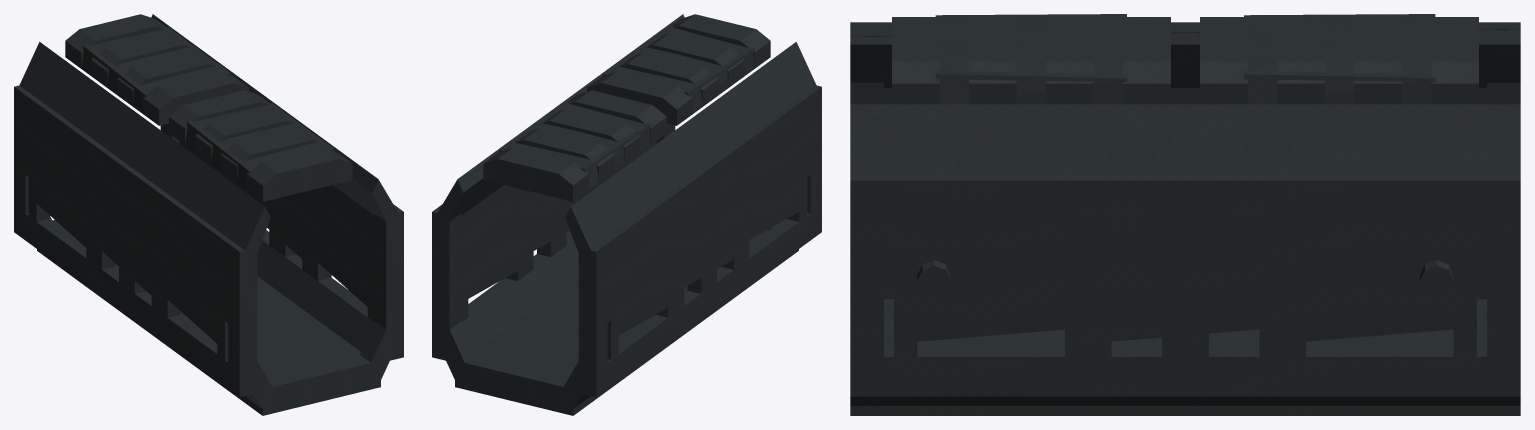
File: mpx_guard.glb
The picture shows the model from 3 angles, left to right: view 1: azimuth 30°, elevation 25°; view 2: azimuth 150°, elevation 25°; view 3: azimuth 270°, elevation 25°; orthographic projection. The views are drawn at different scales.
Visible parts, largest first — view 1: handguard__mpx_guard_LOD0_RAID_Secondary_Original_steel, handguard__mpx_guard_LOD1_RAID_Secondary_Original_steel; view 2: handguard__mpx_guard_LOD0_RAID_Secondary_Original_steel, handguard__mpx_guard_LOD1_RAID_Secondary_Original_steel; view 3: handguard__mpx_guard_LOD0_RAID_Secondary_Original_steel, handguard__mpx_guard_LOD1_RAID_Secondary_Original_steel.
Boxes of the visible parts, x1=… form: handguard__mpx_guard_LOD0_RAID_Secondary_Original_steel: x1=14, y1=14, x2=403, y2=415; handguard__mpx_guard_LOD1_RAID_Secondary_Original_steel: x1=14, y1=27, x2=403, y2=414; handguard__mpx_guard_LOD0_RAID_Secondary_Original_steel: x1=432, y1=14, x2=821, y2=415; handguard__mpx_guard_LOD1_RAID_Secondary_Original_steel: x1=432, y1=25, x2=820, y2=414; handguard__mpx_guard_LOD0_RAID_Secondary_Original_steel: x1=850, y1=17, x2=1520, y2=415; handguard__mpx_guard_LOD1_RAID_Secondary_Original_steel: x1=850, y1=14, x2=1520, y2=405.
Bounding box in the file's own units: 0.088 × 0.11 × 0.2.
1 material, 1 textured.
